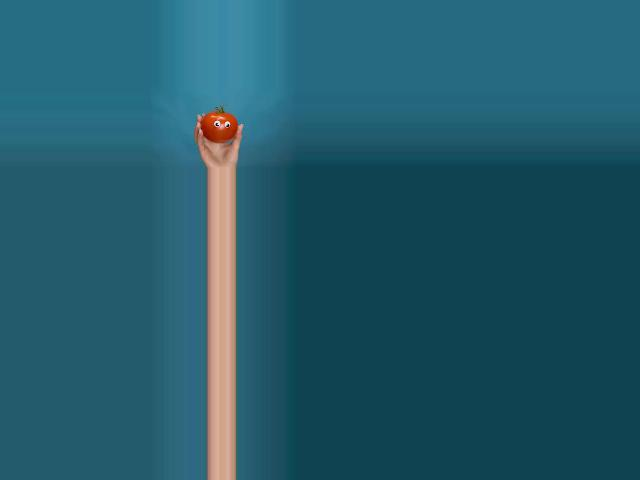tomato: (200, 111, 238, 143)
